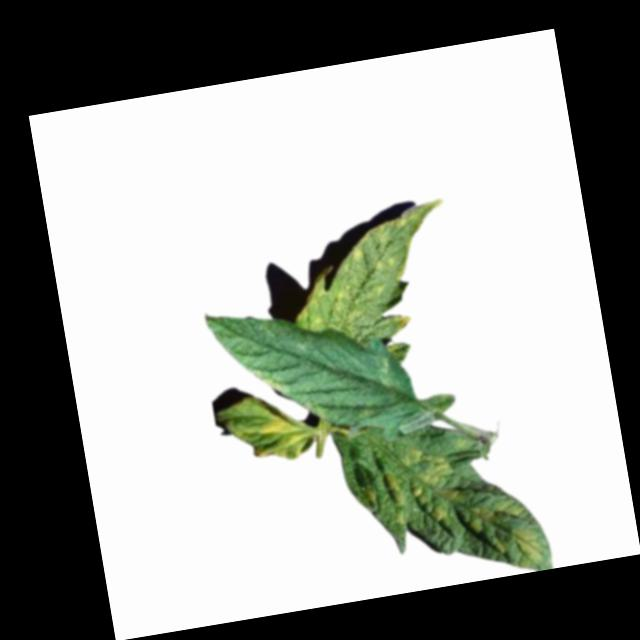Leaf_Mold: (281, 197, 466, 352), (384, 428, 554, 591), (246, 389, 315, 466), (371, 352, 400, 389)
